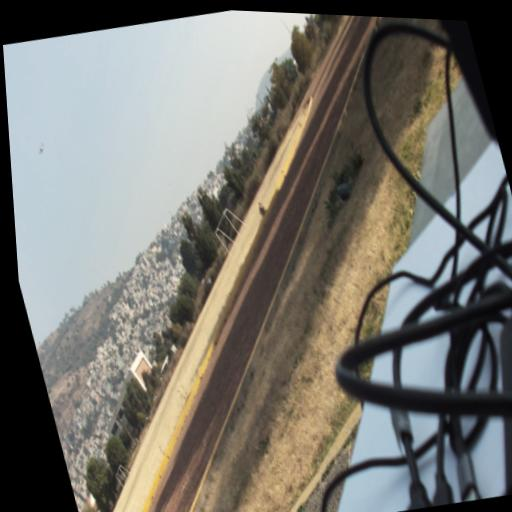drones: (34, 141, 47, 158)
